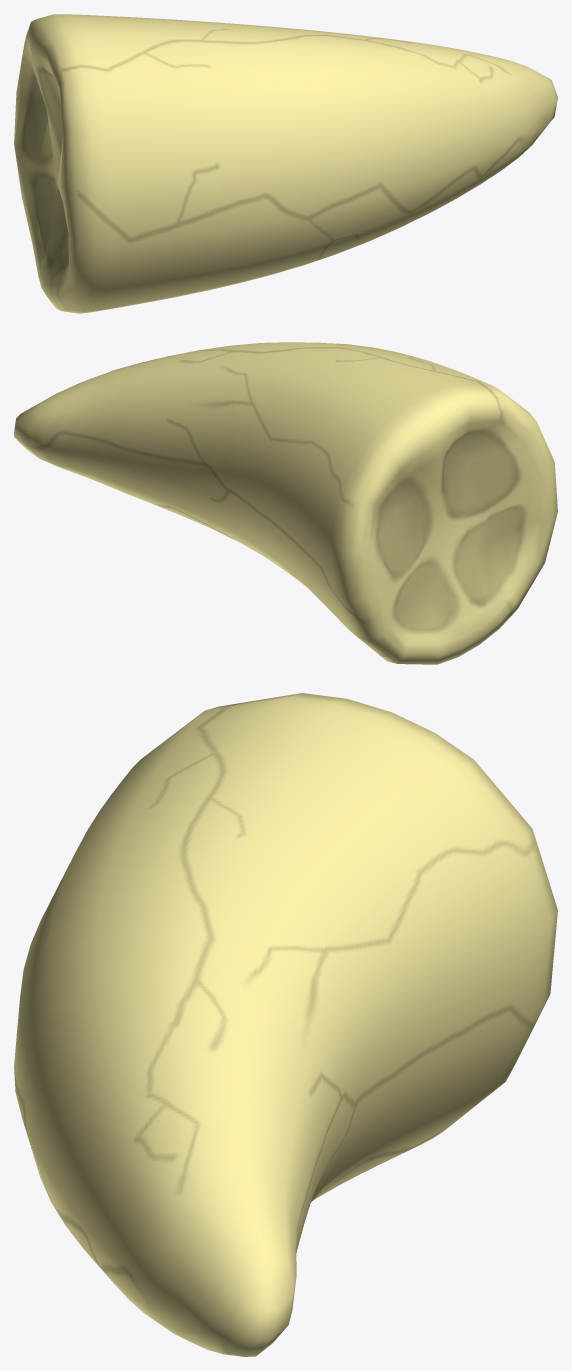
File: PresaDeLobo.fbx
3 views of the same model, one above another, from view 1: azimuth 30°, elevation 25°; view 2: azimuth 150°, elevation 25°; view 3: azimuth 270°, elevation 25° (orthographic). The views are drawn at different scales.
Parts seen in each view (by area): view 1: Dente de Lobo; view 2: Dente de Lobo; view 3: Dente de Lobo.
Boxes of the visible parts, x1,y1,x2,y2 form: Dente de Lobo: [14, 14, 557, 313]; Dente de Lobo: [14, 342, 557, 664]; Dente de Lobo: [14, 693, 557, 1356].
Size of the model in its own units: 217 by 108 by 121.
